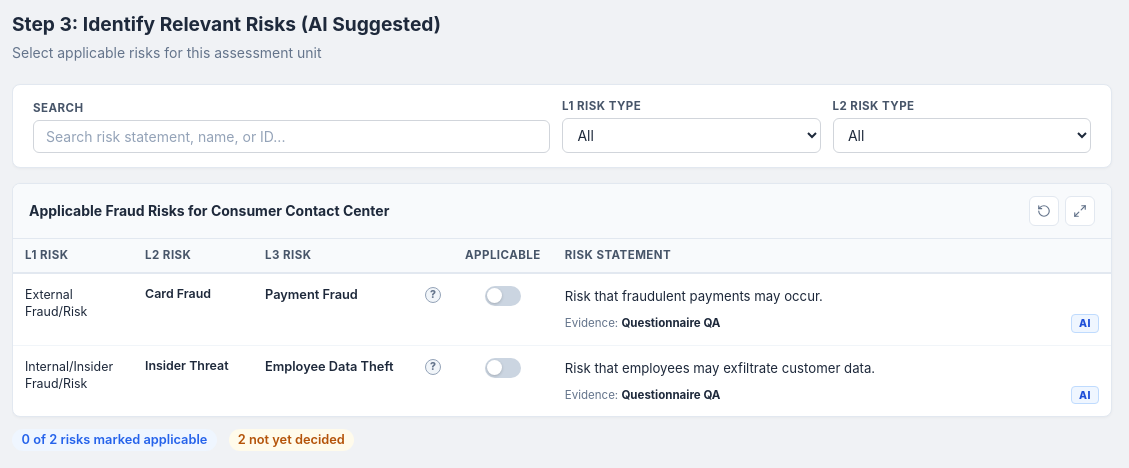
StepIdentifyRisks — filters › shows 'No risks match' message when search has no results
The width and height of the screenshot is (1129, 468).
Expected: the text "Payment Fraud" is shown, [265,287,358,302]
Type "zzz-no-match-zzz" into the field with placeholder "Search risk statement, name, or ID..." at (292, 137), box [33,120,550,153]
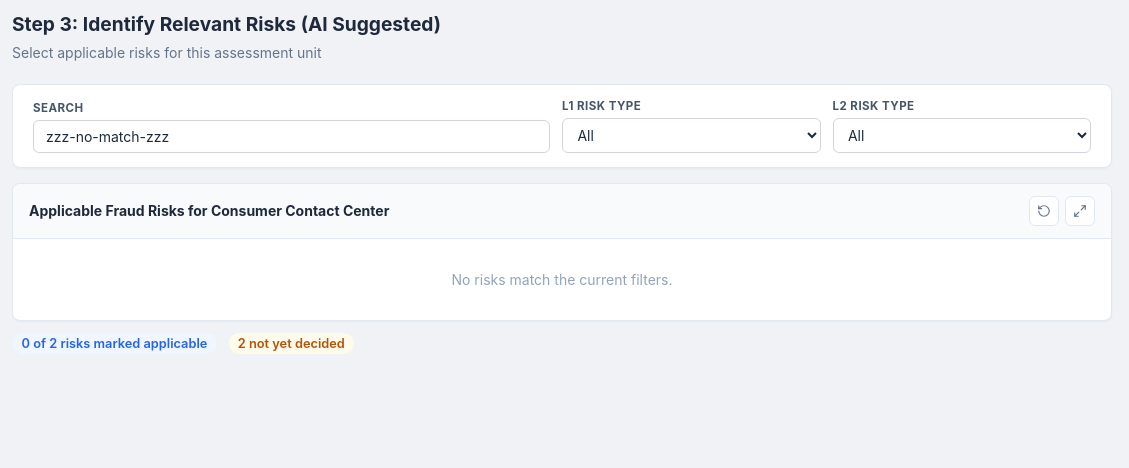
Expected: the text "No risks match the current filters." is shown, [452,271,672,288]
